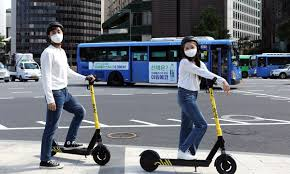kick_neck: (90, 87, 102, 139), (210, 91, 221, 144)
kick_wheel: (215, 154, 237, 174), (139, 149, 159, 171), (92, 144, 111, 164)
